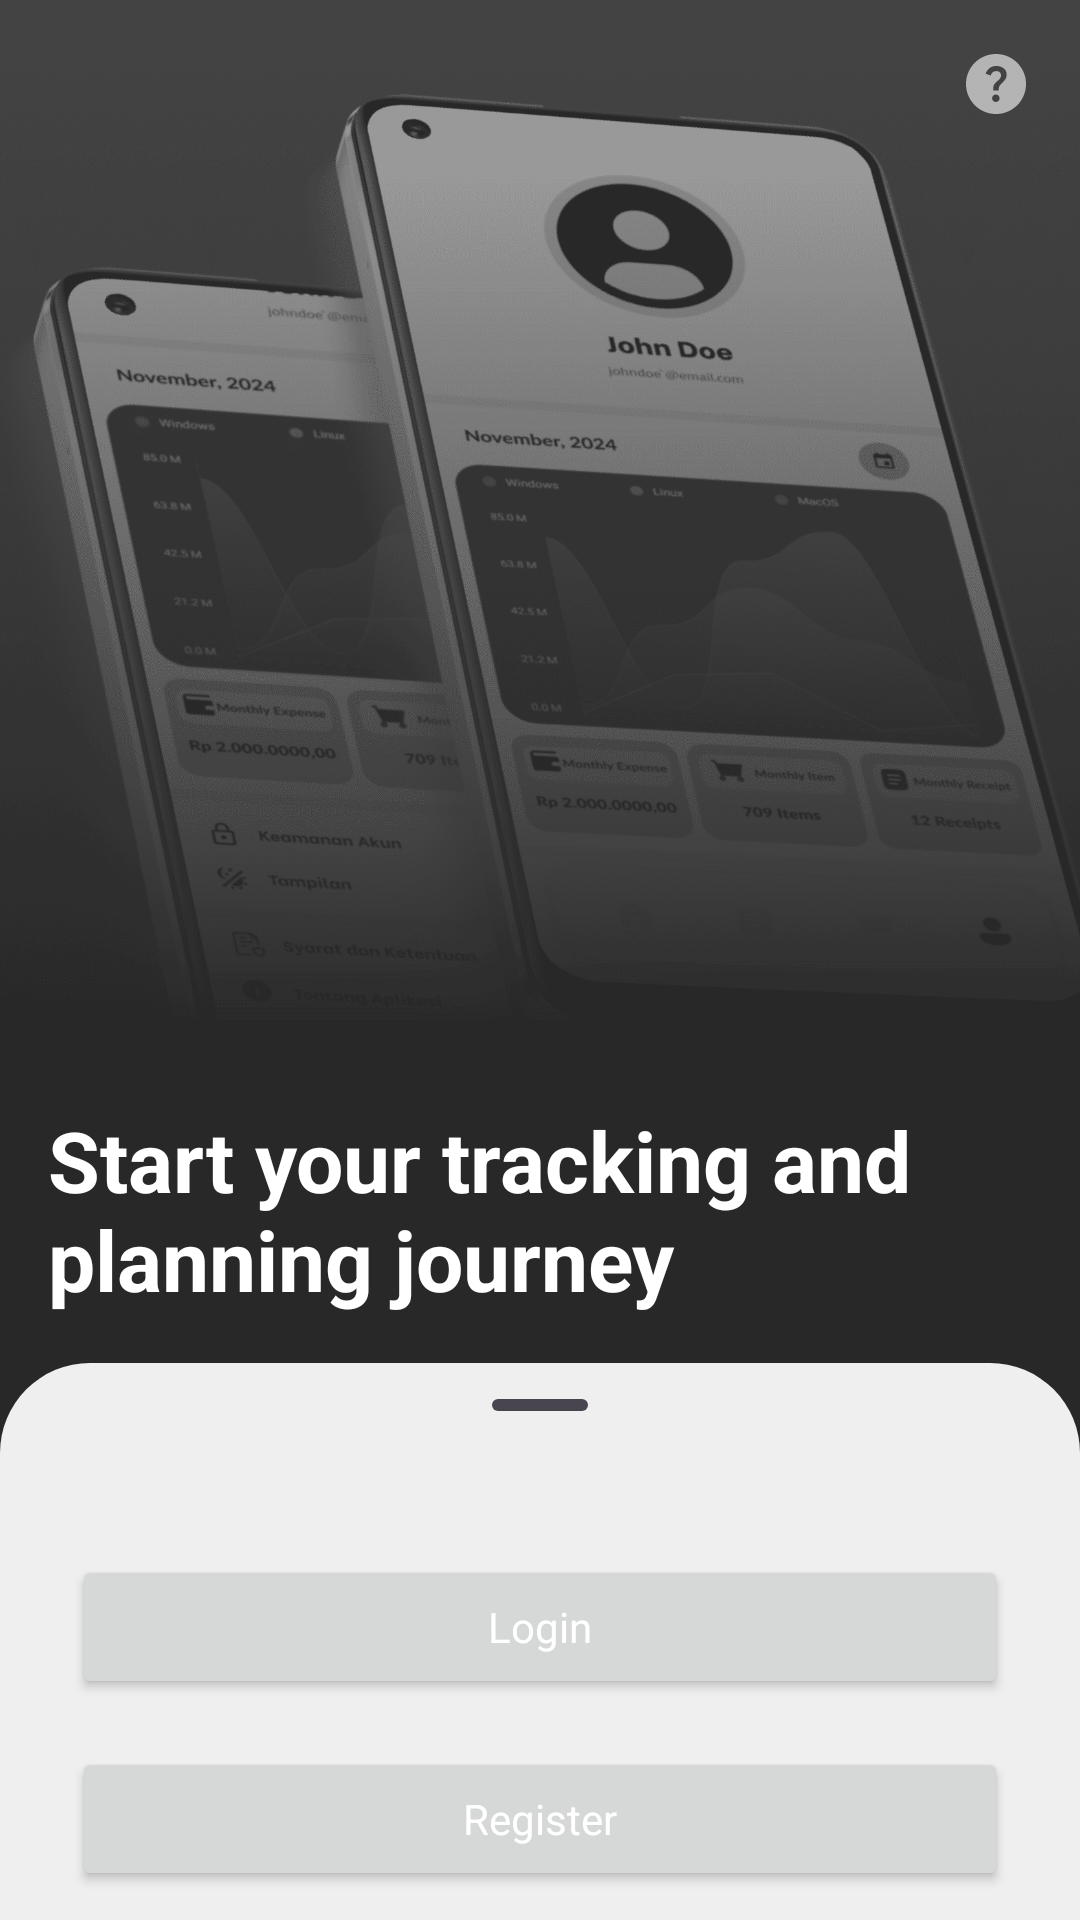

Icons on this 1080px×1920px Android screen, each with its box as (x1, y1, x2, y2):
help button: (966, 54, 1026, 114)
